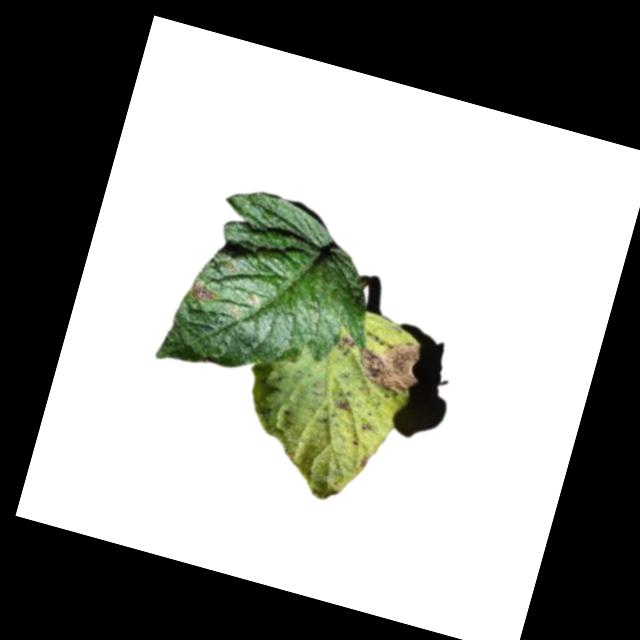Early_blight: (332, 326, 426, 401), (184, 276, 219, 309), (332, 396, 355, 414)
